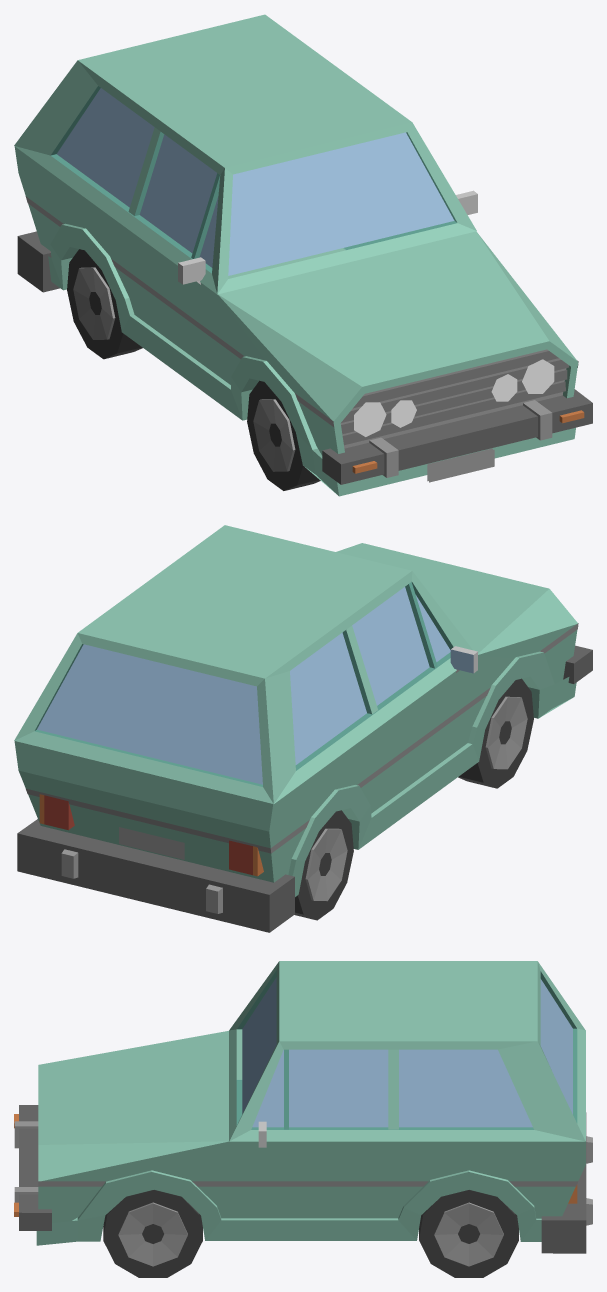
The model's file is transport_old_005.glb.
3 renders of one model, top to bottom at view 1: azimuth 30°, elevation 25°; view 2: azimuth 150°, elevation 25°; view 3: azimuth 270°, elevation 25°, orthographic. The views are drawn at different scales.
Visible parts, largest first — view 1: transport_old_005; view 2: transport_old_005; view 3: transport_old_005.
Boxes of the visible parts, box(x1,y1,x2,y2) form: transport_old_005: box(14, 14, 592, 496); transport_old_005: box(14, 525, 592, 932); transport_old_005: box(14, 961, 592, 1277).
Bounding box in the file's own units: 1.48 × 1.24 × 2.86.
1 material, 1 textured.
